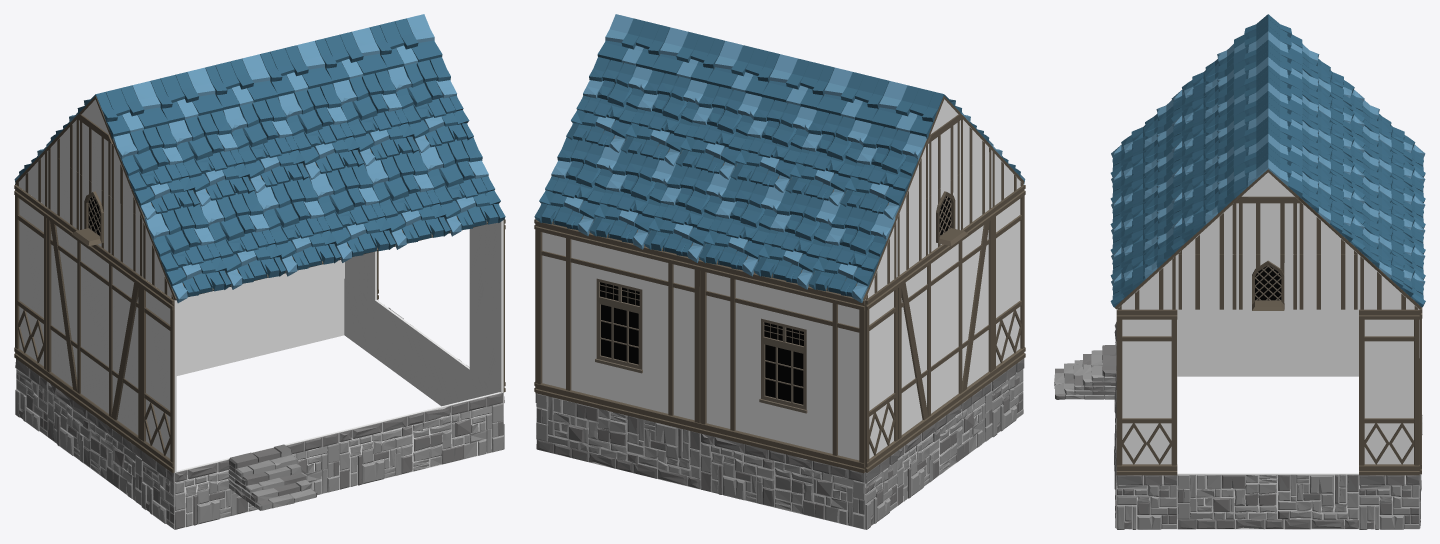
The model's file is House_01_parts.fbx.
The picture shows the model from 3 angles, left to right: view 1: azimuth 30°, elevation 25°; view 2: azimuth 150°, elevation 25°; view 3: azimuth 270°, elevation 25°; orthographic projection. The views are drawn at different scales.
Visible parts, largest first — view 1: WALL_02_2, FOUNDATION_02_26, FOUNDATION_02_30, WALL_01_1.003, FOUNDATION_02_27, WALL_01_1.001, WALL_01_1.002, FOUNDATION_02_31, ROOF_base_1.017, FOUNDATION_02_28, ROOF_base_1.023, ROOF_base_1.012 (+30 smaller); view 2: WINDOW_03_1.001, WINDOW_03_1, WALL_02_2, FOUNDATION_02_30, FOUNDATION_02_29, WALL_01_1.002, WALL_01_1.003, FOUNDATION_02_28, ROOF_base_1.005, ROOF_base_1.011, ROOF_base_1.004, ROOF_base_1 (+25 smaller); view 3: FOUNDATION_02_31, WALL_01_1.001, FOUNDATION_02_28, WALL_01_1, ROOF_triangle_window_grid_9, ROOF_up_quad_3, ROOF_up_quad_2, FOUNDATION_03_2, FOUNDATION_03_3, ROOF_up_quad_4, STAIRS_01_6, WALL_02_2 (+42 smaller).
Boxes of the visible parts, x1=… form: WALL_02_2: x1=46, y1=208, x2=142, y2=449; FOUNDATION_02_26: x1=338, y1=392, x2=503, y2=489; FOUNDATION_02_30: x1=182, y1=279, x2=344, y2=374; WALL_01_1.003: x1=140, y1=277, x2=176, y2=472; FOUNDATION_02_27: x1=174, y1=431, x2=339, y2=529; WALL_01_1.001: x1=469, y1=219, x2=505, y2=392; WALL_01_1.002: x1=14, y1=185, x2=47, y2=380; FOUNDATION_02_31: x1=375, y1=300, x2=469, y2=406; ROOF_base_1.017: x1=143, y1=204, x2=231, y2=303; FOUNDATION_02_28: x1=48, y1=382, x2=142, y2=505; ROOF_base_1.023: x1=111, y1=124, x2=199, y2=219; ROOF_base_1.012: x1=418, y1=137, x2=505, y2=236; WINDOW_03_1.001: x1=699, y1=260, x2=865, y2=473; WINDOW_03_1: x1=535, y1=220, x2=700, y2=432; WALL_02_2: x1=897, y1=208, x2=993, y2=449; FOUNDATION_02_30: x1=536, y1=393, x2=700, y2=489; FOUNDATION_02_29: x1=701, y1=433, x2=865, y2=529; WALL_01_1.002: x1=865, y1=277, x2=899, y2=472; WALL_01_1.003: x1=992, y1=184, x2=1025, y2=379; FOUNDATION_02_28: x1=897, y1=382, x2=992, y2=506; ROOF_base_1.005: x1=808, y1=204, x2=896, y2=302; ROOF_base_1.011: x1=840, y1=124, x2=928, y2=219; ROOF_base_1.004: x1=753, y1=191, x2=840, y2=289; ROOF_base_1: x1=534, y1=137, x2=621, y2=236; FOUNDATION_02_31: x1=1177, y1=473, x2=1358, y2=529; WALL_01_1.001: x1=1116, y1=309, x2=1177, y2=475; FOUNDATION_02_28: x1=1177, y1=321, x2=1358, y2=376; WALL_01_1: x1=1359, y1=309, x2=1419, y2=475; ROOF_triangle_window_grid_9: x1=1238, y1=254, x2=1298, y2=310; ROOF_up_quad_3: x1=1298, y1=254, x2=1358, y2=309; ROOF_up_quad_2: x1=1177, y1=254, x2=1237, y2=309; FOUNDATION_03_2: x1=1116, y1=475, x2=1177, y2=529; FOUNDATION_03_3: x1=1359, y1=475, x2=1419, y2=529; ROOF_up_quad_4: x1=1238, y1=203, x2=1298, y2=254; STAIRS_01_6: x1=1054, y1=344, x2=1116, y2=399; WALL_02_2: x1=1177, y1=309, x2=1358, y2=321.
Bounding box in the file's own units: 656 × 659 × 613.
